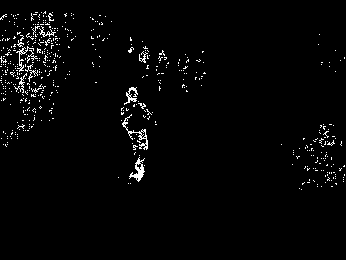person: (120, 86, 154, 185), (156, 49, 167, 91), (178, 51, 188, 93)
